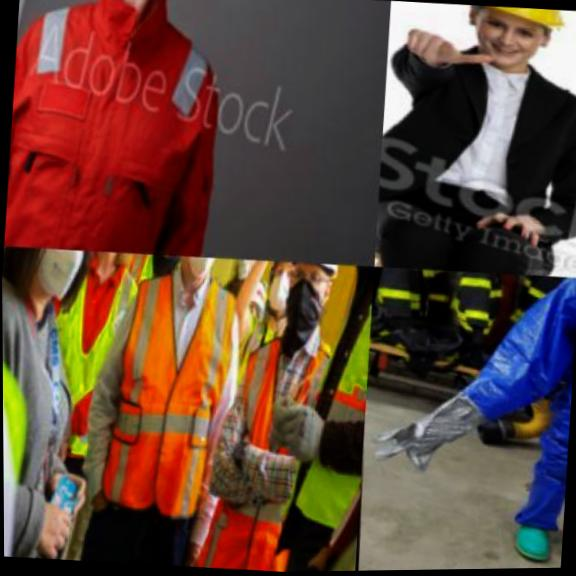safety_vest: (2, 0, 277, 262), (74, 251, 257, 537), (185, 311, 345, 573), (274, 262, 375, 564), (469, 270, 576, 553), (27, 246, 141, 434), (120, 252, 186, 296), (2, 246, 10, 316)
